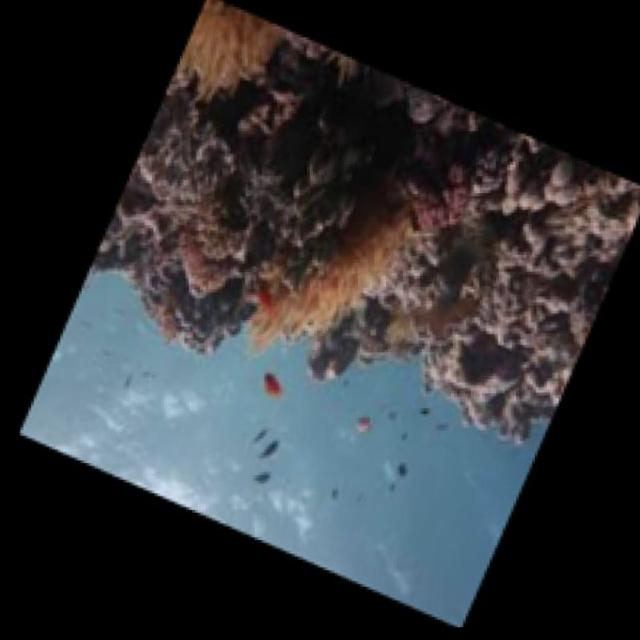Dead Coral: (114, 37, 331, 384), (406, 127, 615, 441)
